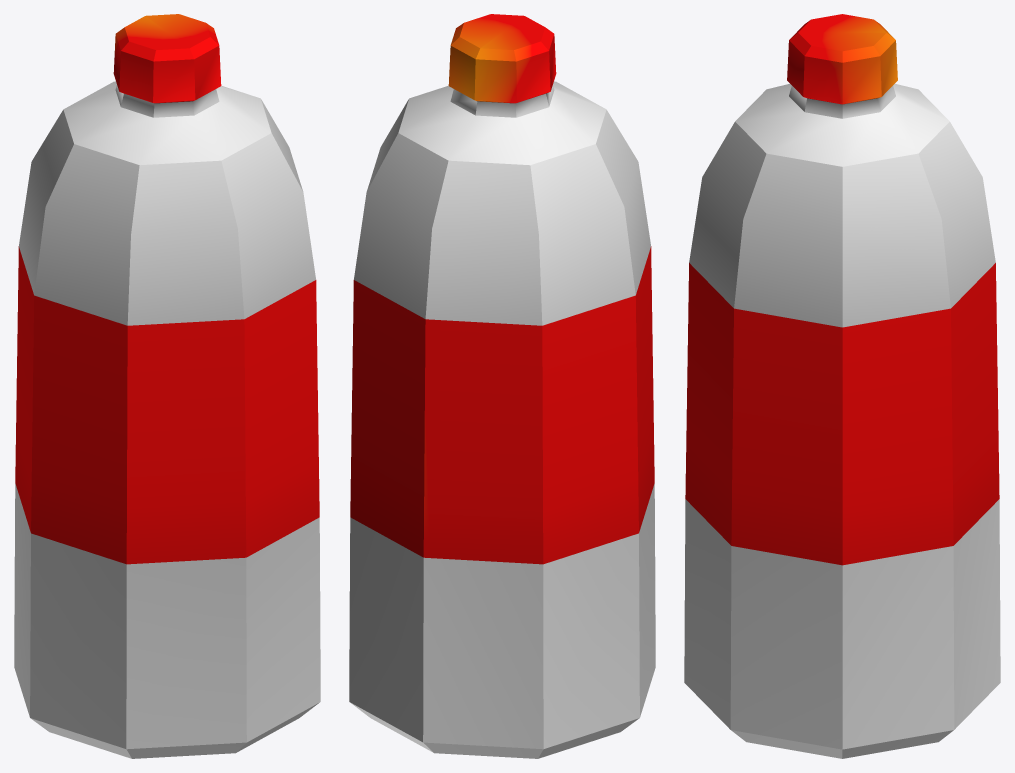
File: Sampah3.fbx
The picture shows the model from 3 angles, left to right: view 1: azimuth 30°, elevation 25°; view 2: azimuth 150°, elevation 25°; view 3: azimuth 270°, elevation 25°; orthographic projection.
Parts seen in each view (by area): view 1: Botol.002; view 2: Botol.002; view 3: Botol.002.
Boxes of the visible parts, left/top/right/bottom form: Botol.002: left=14, top=14, right=320, bottom=758; Botol.002: left=349, top=14, right=655, bottom=758; Botol.002: left=684, top=14, right=1000, bottom=758.
Bounding box in the file's own units: 16.77 × 39.12 × 16.77.
